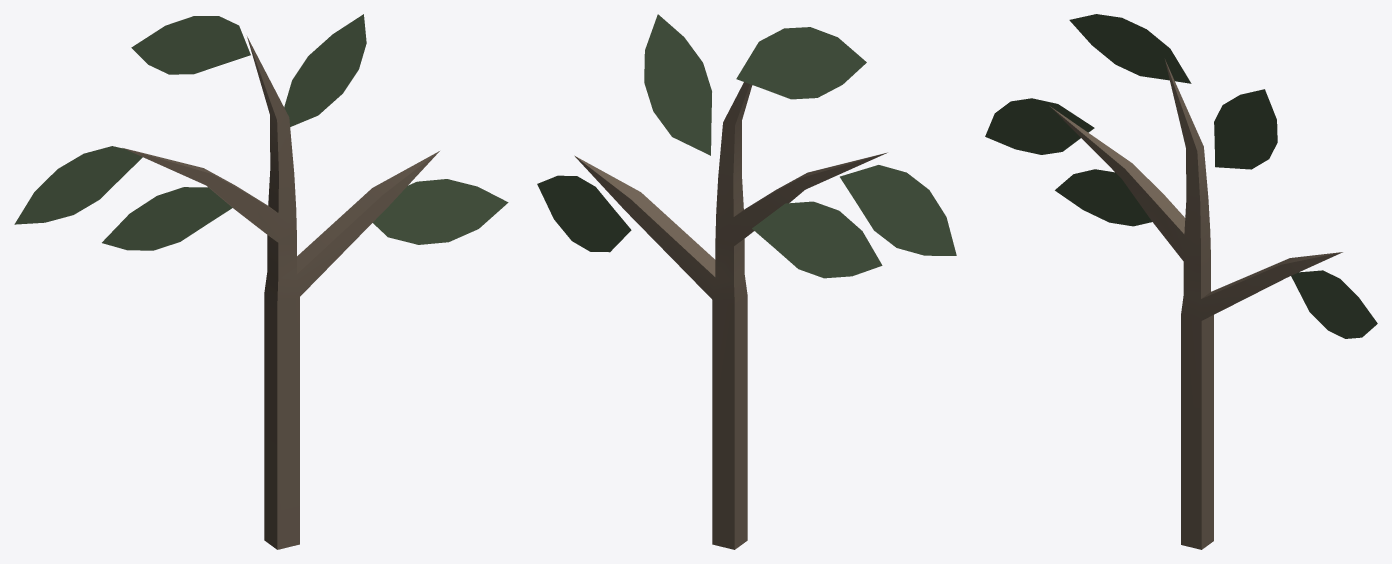
The picture shows the model from 3 angles, left to right: view 1: azimuth 30°, elevation 25°; view 2: azimuth 150°, elevation 25°; view 3: azimuth 330°, elevation 25°; orthographic projection. The views are drawn at different scales.
Parts seen in each view (by area): view 1: pCube1, pPlane5, pPlane3, pPlane1, pPlane2, pPlane4; view 2: pCube1, pPlane4, pPlane3, pPlane1, pPlane2, pPlane5; view 3: pCube1, pPlane4, pPlane3, pPlane1, pPlane5, pPlane2.
Boxes of the visible parts, x1=… form: pCube1: x1=123, y1=36, x2=439, y2=549; pPlane5: x1=373, y1=179, x2=508, y2=244; pPlane3: x1=131, y1=16, x2=250, y2=74; pPlane1: x1=14, y1=146, x2=142, y2=224; pPlane2: x1=102, y1=187, x2=232, y2=250; pPlane4: x1=284, y1=14, x2=366, y2=126; pCube1: x1=574, y1=82, x2=887, y2=549; pPlane4: x1=644, y1=14, x2=711, y2=155; pPlane3: x1=736, y1=27, x2=866, y2=99; pPlane1: x1=840, y1=165, x2=956, y2=255; pPlane2: x1=752, y1=201, x2=882, y2=278; pPlane5: x1=537, y1=175, x2=631, y2=252; pCube1: x1=1050, y1=59, x2=1342, y2=549; pPlane4: x1=1214, y1=89, x2=1277, y2=169; pPlane3: x1=1069, y1=14, x2=1191, y2=83; pPlane1: x1=985, y1=98, x2=1094, y2=154; pPlane5: x1=1291, y1=270, x2=1377, y2=338; pPlane2: x1=1055, y1=169, x2=1151, y2=226.
Bounding box in the file's own units: 0.8938 × 1.01 × 0.1204.
